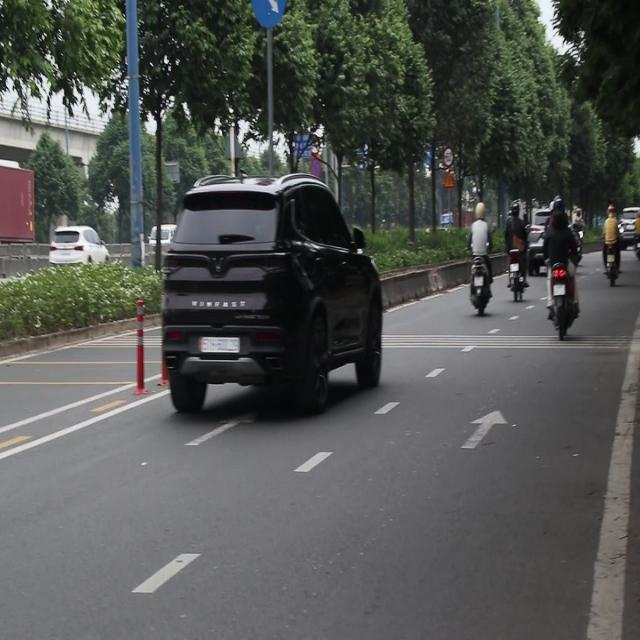car: (163, 177, 391, 420), (530, 203, 570, 278), (50, 226, 109, 267), (147, 224, 177, 264), (618, 205, 640, 248)
motorbike: (546, 260, 583, 336), (464, 258, 493, 318), (502, 260, 534, 307), (572, 206, 589, 261), (603, 240, 621, 286), (631, 245, 640, 276)
truck: (0, 158, 42, 268)
